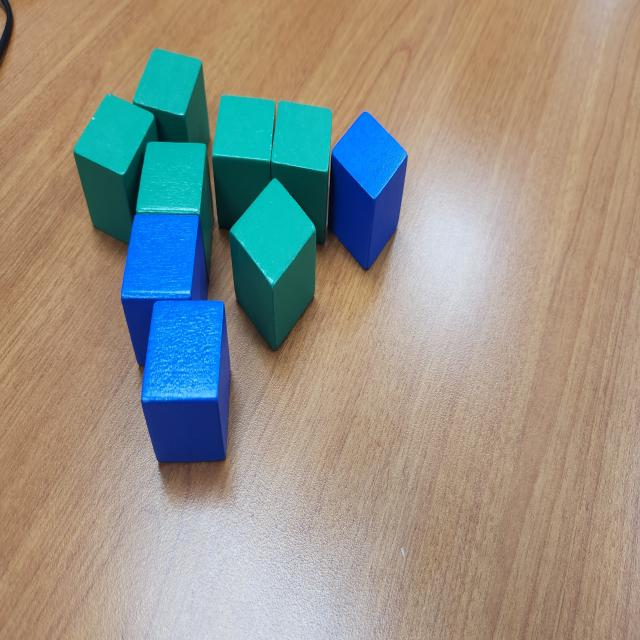blue: (142, 298, 232, 464), (120, 213, 210, 366), (328, 112, 410, 272)
green: (229, 177, 317, 350), (74, 91, 158, 246), (136, 140, 215, 283), (270, 101, 332, 246), (211, 96, 277, 230), (132, 49, 211, 149)
